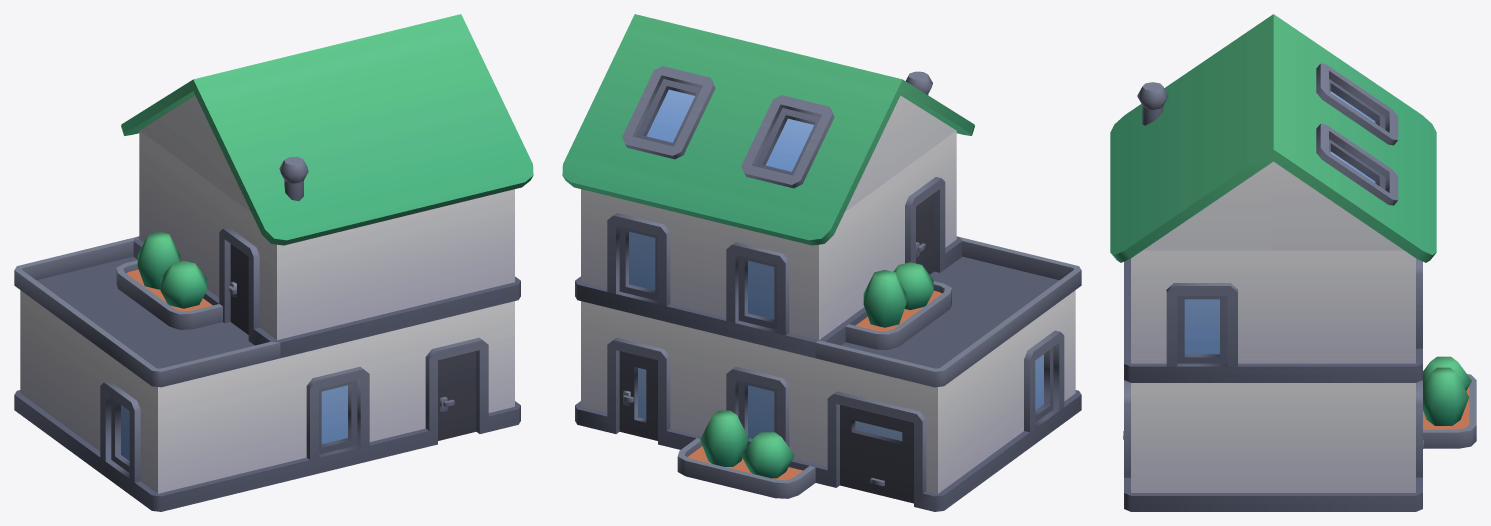
Rendered from house-o.glb.
3 renders of one model, left to right at view 1: azimuth 30°, elevation 25°; view 2: azimuth 150°, elevation 25°; view 3: azimuth 270°, elevation 25°, orthographic. The views are drawn at different scales.
Visible parts, largest first — view 1: building-type-o; view 2: building-type-o; view 3: building-type-o.
Part boxes in pixels (x1,y1,x2,y2): building-type-o: (14, 14, 533, 511); building-type-o: (562, 14, 1081, 511); building-type-o: (1110, 14, 1476, 511).
Size of the model in its own units: 1.27 by 1.14 by 1.03.
1 material, 1 textured.
